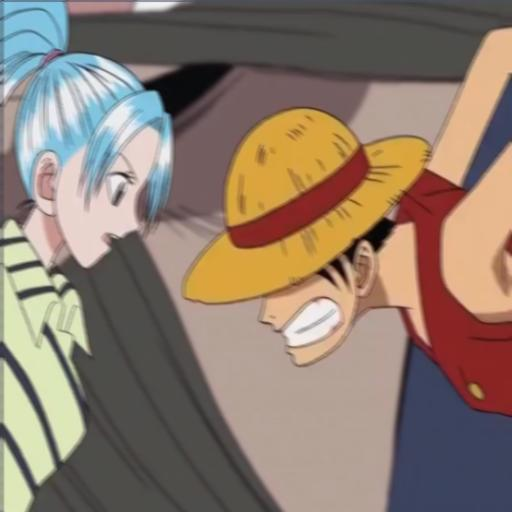Luffy: (171, 0, 512, 436)
